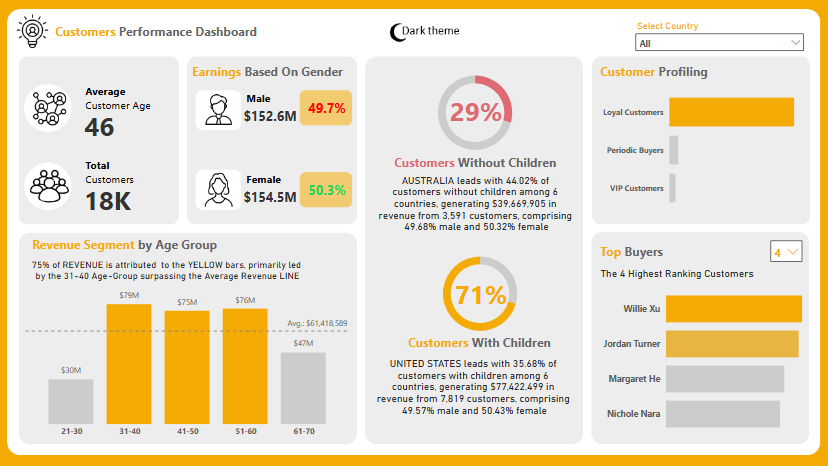

What the dashboard file says about the page in this screenshot:
{"tool":"powerbi","page":{"name":"Light Theme","canvas":[1280,720],"ordinal":0},"visuals":[{"type":"clusteredColumnChart","fields":{"Category":["DimCustomer.Age Category"],"Y":["All Measures.Total Revenue"]},"box":[37.6,432.3,510.4,250.1],"z":0},{"type":"card","fields":{"Values":["Customer Measure.Avg Caption"]},"box":[26,380.4,465.8,73.5],"z":1000},{"type":"textbox","box":[48.1,358.4,310,42.6],"z":2000},{"type":"donutChart","fields":{"Y":["Customer Measure.%C without Children","Customer Measure.%CWC"]},"box":[638.4,97,191,152.8],"z":3000},{"type":"donutChart","fields":{"Y":["Customer Measure.%C without Children","Customer Measure.%CWC"]},"box":[645.8,375.8,191,152.8],"z":4000},{"type":"card","fields":{"Values":["Customer Measure.%C without Children"]},"box":[686.9,139.6,98.4,61.7],"z":5000},{"type":"card","fields":{"Values":["Customer Measure.%CWC"]},"box":[694.3,421.4,98.4,61.7],"z":6000},{"type":"textbox","box":[604.3,232.8,271.8,41.9],"z":7000},{"type":"textbox","box":[626,508.9,237.1,41.9],"z":8000},{"type":"card","fields":{"Values":["Customer Measure.Caption Customers Without Children"]},"box":[571.1,253,331.1,120],"z":9000},{"type":"card","fields":{"Values":["Customer Measure.Caption Customers With Children"]},"box":[568.2,532.8,330.6,124.9],"z":10000},{"type":"clusteredBarChart","fields":{"Category":["DimCustomer.Customer Type"],"Y":["All Measures.Total Revenue"]},"box":[923.9,114.2,323.9,228.4],"z":11000},{"type":"clusteredBarChart","fields":{"Category":["DimCustomer.Full Name"],"Y":["Customer Measure.Dynamic customers"]},"box":[923.9,419.3,323.9,266],"z":12000},{"type":"slicer","fields":{"Values":["Dynamic Customers.Dynamic Customers"]},"box":[1178.3,360,69.4,59.3],"z":13000},{"type":"card","fields":{"Values":["Customer Measure.% Male"]},"box":[465.5,146,79.5,41.9],"z":14000},{"type":"card","fields":{"Values":["Customer Measure.% Female"]},"box":[465.5,270.4,79.5,47.7],"z":15000},{"type":"card","fields":{"Values":["Customer Measure.#Customers"]},"box":[114.7,273.3,105.5,66.5],"z":16000},{"type":"card","fields":{"Values":["Customer Measure.Avg Customer Age"]},"box":[113.2,159.9,83.8,66.1],"z":17000},{"type":"textbox","box":[128.7,124.3,147.5,63.6],"z":18000},{"type":"textbox","box":[128.7,238.6,138.8,62.2],"z":19000},{"type":"card","fields":{"Values":["Customer Measure.Title Top Customers"]},"box":[913.7,397.6,261.7,50.6],"z":20000},{"type":"textbox","box":[921,92.5,237.1,41.9],"z":21000},{"type":"textbox","box":[921,368.7,237.1,41.9],"z":22000},{"type":"textbox","box":[293.5,92.5,254.5,41.9],"z":23000},{"type":"textbox","box":[377.3,135.9,65.1,39],"z":24000},{"type":"card","fields":{"Values":["Customer Measure.Male Revenue"]},"box":[360,160.5,117.1,40.5],"z":25000},{"type":"textbox","box":[377.3,260.2,65.1,39],"z":26000},{"type":"card","fields":{"Values":["Customer Measure.Female Revenue"]},"box":[360,284.8,117.1,40.5],"z":27000},{"type":"textbox","box":[82.4,30.4,360,41.9],"z":27001},{"type":"slicer","fields":{"Values":["DimGeography.Country"]},"box":[970.1,41.9,279,46.3],"z":27002},{"type":"textbox","box":[978.8,26,118.6,31.8],"z":27003},{"type":"pageNavigator","box":[594.3,32.9,125.7,34.3],"z":27004}]}

Visuals, with their boxes in screenshot pixels (x1, y1, x2, y2), scaled from the page's 1280x720 canvas onto the 828x466 screenshot:
clusteredColumnChart - DimCustomer.Age Category x All Measures.Total Revenue: 24, 280, 354, 442
card - Customer Measure.Avg Caption: 17, 246, 318, 294
textbox: 31, 232, 232, 260
donutChart - Customer Measure.%C without Children x Customer Measure.%CWC: 413, 63, 537, 162
donutChart - Customer Measure.%C without Children x Customer Measure.%CWC: 418, 243, 541, 342
card - Customer Measure.%C without Children: 444, 90, 508, 130
card - Customer Measure.%CWC: 449, 273, 513, 313
textbox: 391, 151, 567, 178
textbox: 405, 329, 558, 356
card - Customer Measure.Caption Customers Without Children: 369, 164, 584, 241
card - Customer Measure.Caption Customers With Children: 368, 345, 581, 426
clusteredBarChart - DimCustomer.Customer Type x All Measures.Total Revenue: 598, 74, 807, 222
clusteredBarChart - DimCustomer.Full Name x Customer Measure.Dynamic customers: 598, 271, 807, 444
slicer - Dynamic Customers.Dynamic Customers: 762, 233, 807, 271
card - Customer Measure.% Male: 301, 94, 353, 122
card - Customer Measure.% Female: 301, 175, 353, 206
card - Customer Measure.#Customers: 74, 177, 142, 220
card - Customer Measure.Avg Customer Age: 73, 103, 127, 146
textbox: 83, 80, 179, 122
textbox: 83, 154, 173, 195
card - Customer Measure.Title Top Customers: 591, 257, 760, 290
textbox: 596, 60, 749, 87
textbox: 596, 239, 749, 266
textbox: 190, 60, 354, 87
textbox: 244, 88, 286, 113
card - Customer Measure.Male Revenue: 233, 104, 309, 130
textbox: 244, 168, 286, 194
card - Customer Measure.Female Revenue: 233, 184, 309, 211
textbox: 53, 20, 286, 47
slicer - DimGeography.Country: 628, 27, 808, 57
textbox: 633, 17, 710, 37
pageNavigator: 384, 21, 466, 43
